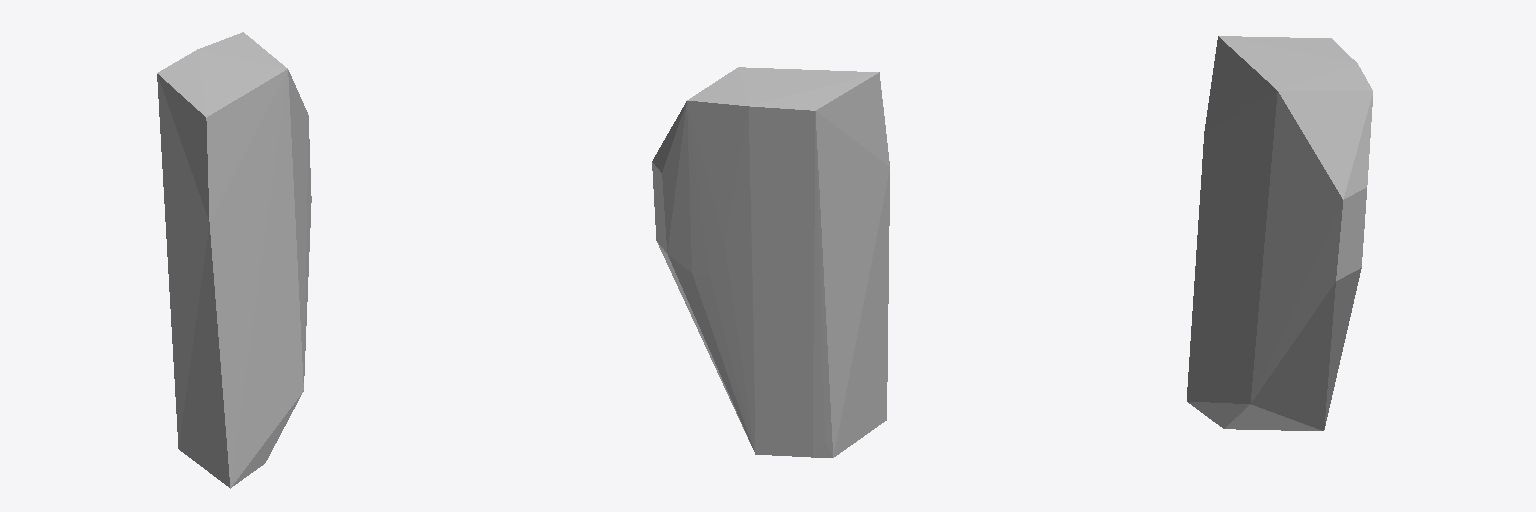
Rendered from trash_bin_collision_16.obj.
The picture shows the model from 3 angles: view 1: azimuth 30°, elevation 25°; view 2: azimuth 150°, elevation 25°; view 3: azimuth 270°, elevation 25°; orthographic projection.
Bounding box in the file's own units: 0.0379 × 0.0785 × 0.0364.